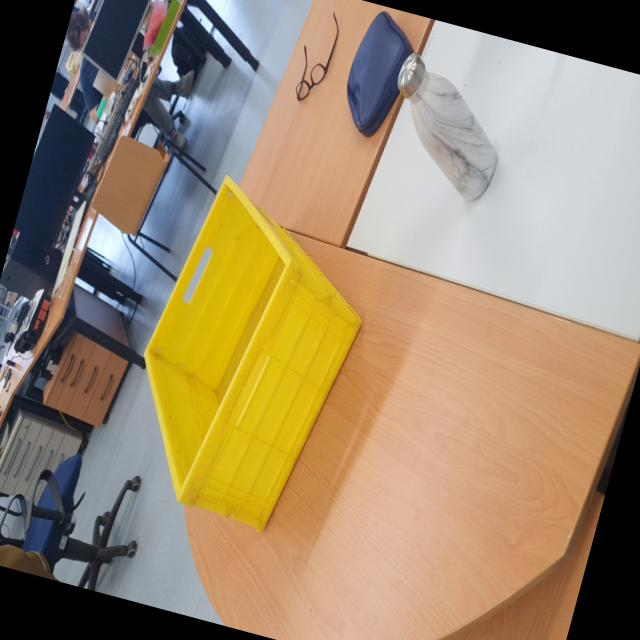box: (100, 150, 398, 557)
